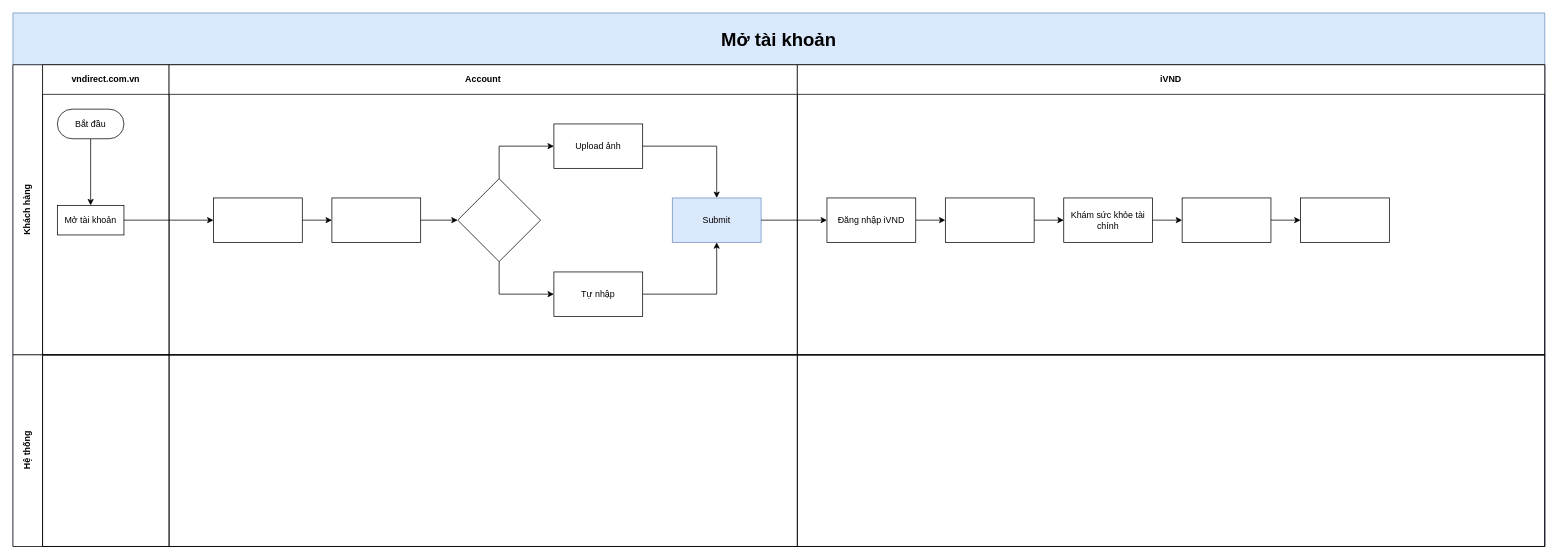
This 1558x559 diagram has some shape labels left out. The box of each missing label's shape, as (x1, y1, x2, y2) in pixels:
Chọn gói dịch vụ - DA - Careby: (945, 197, 1034, 242)
Chọn khóa học: (1181, 197, 1271, 242)
Nhập STK: (331, 197, 421, 242)
Nhập thông tin tài khoản: (213, 197, 302, 242)
Nhập thông tin định danh: (457, 178, 541, 262)
Tư vấn đầu tư theo DGO: (1300, 197, 1389, 242)
